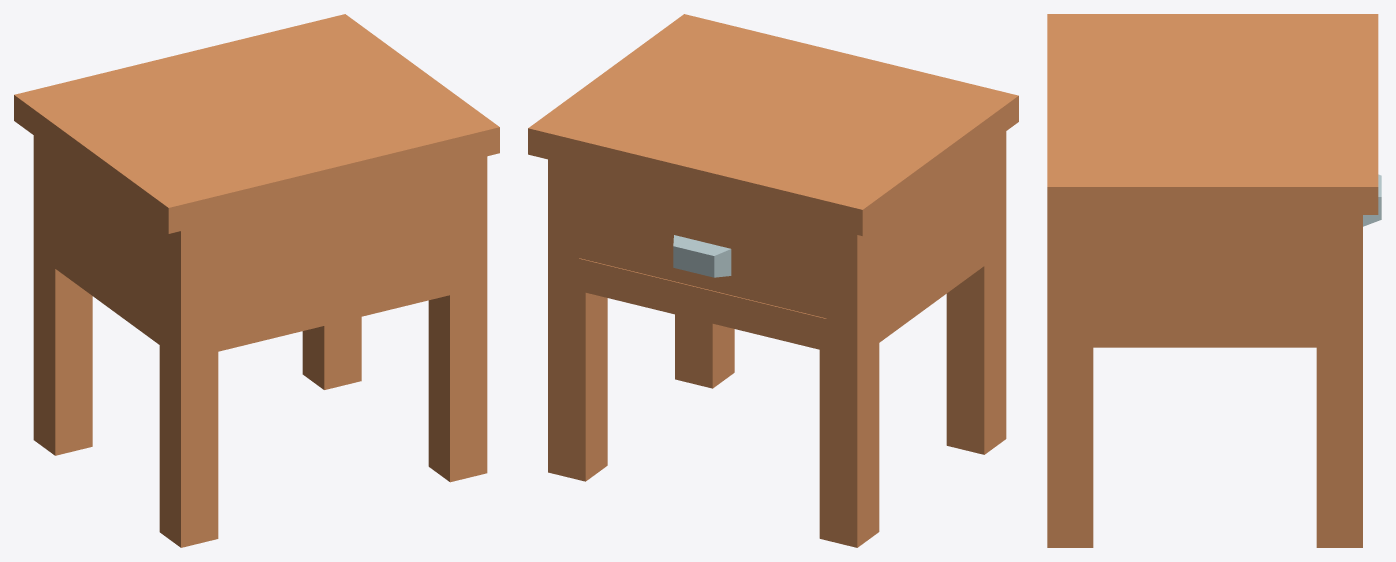
Rendered from Cabinet Bed Drawer Tabl.glb.
3 views of the same model, side by side, from view 1: azimuth 30°, elevation 25°; view 2: azimuth 150°, elevation 25°; view 3: azimuth 270°, elevation 25° (orthographic). The views are drawn at different scales.
Visible parts, largest first — view 1: cabinetBedDrawerTable; view 2: cabinetBedDrawerTable, drawer; view 3: cabinetBedDrawerTable.
Boxes of the visible parts, x1,y1,x2,y2 form: cabinetBedDrawerTable: (14, 14, 499, 547); cabinetBedDrawerTable: (528, 14, 1018, 547); drawer: (579, 192, 826, 318); cabinetBedDrawerTable: (1047, 14, 1378, 547).
Bounding box in the file's own units: 0.266 × 0.2632 × 0.2173.
